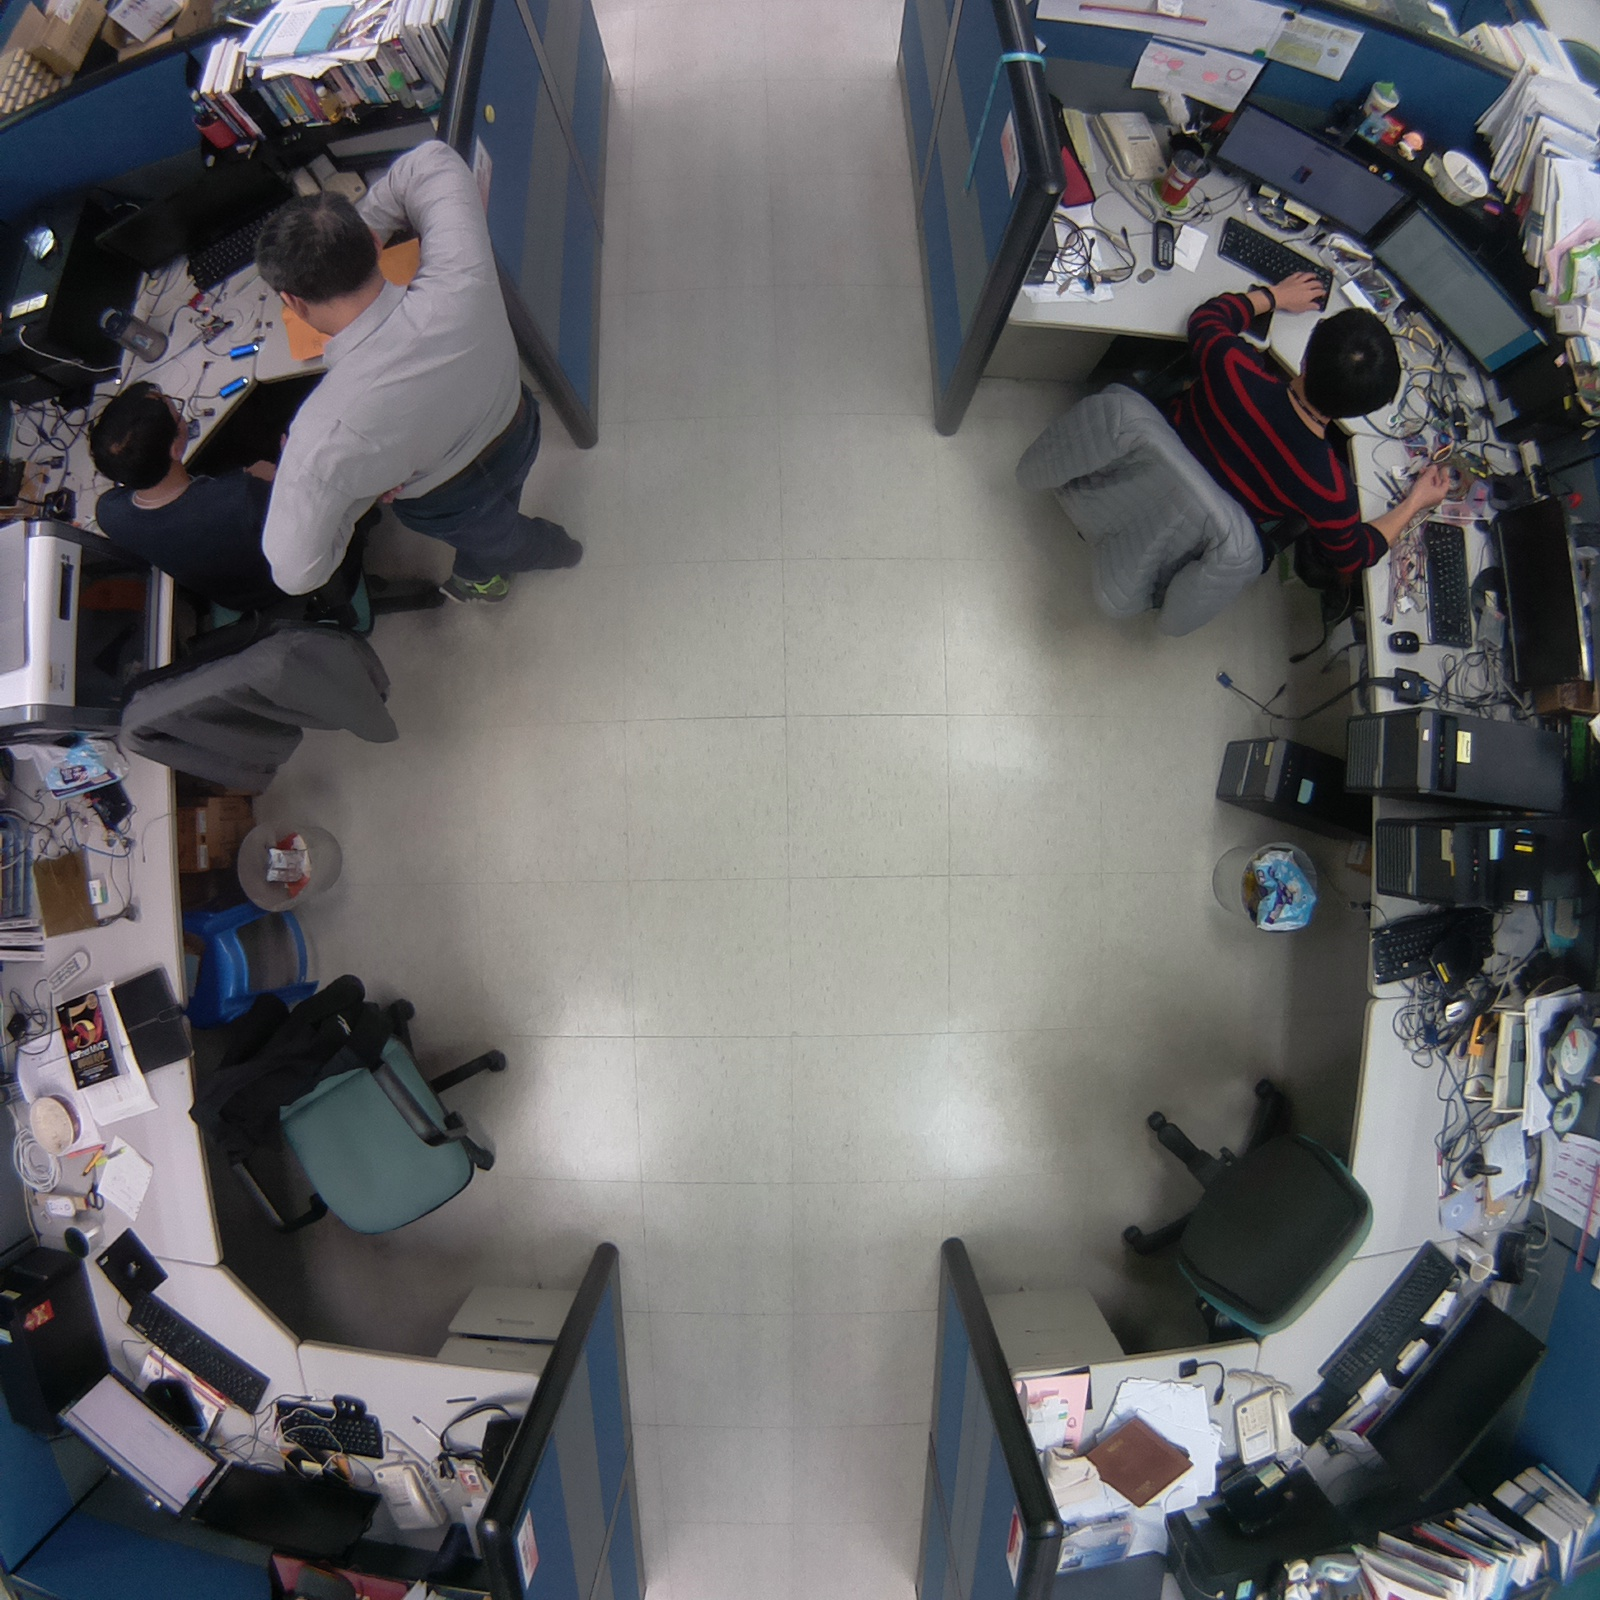chair: (160, 968, 540, 1258), (1083, 1055, 1383, 1358)
head: (238, 185, 393, 319), (83, 365, 202, 493), (1300, 291, 1408, 429)
sitting: (991, 257, 1427, 668), (75, 386, 422, 804)
standing: (227, 187, 593, 623)
